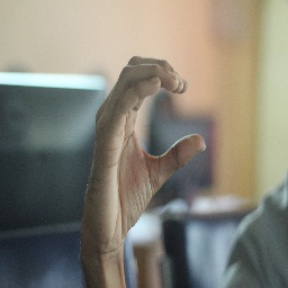C: (94, 46, 214, 187)
